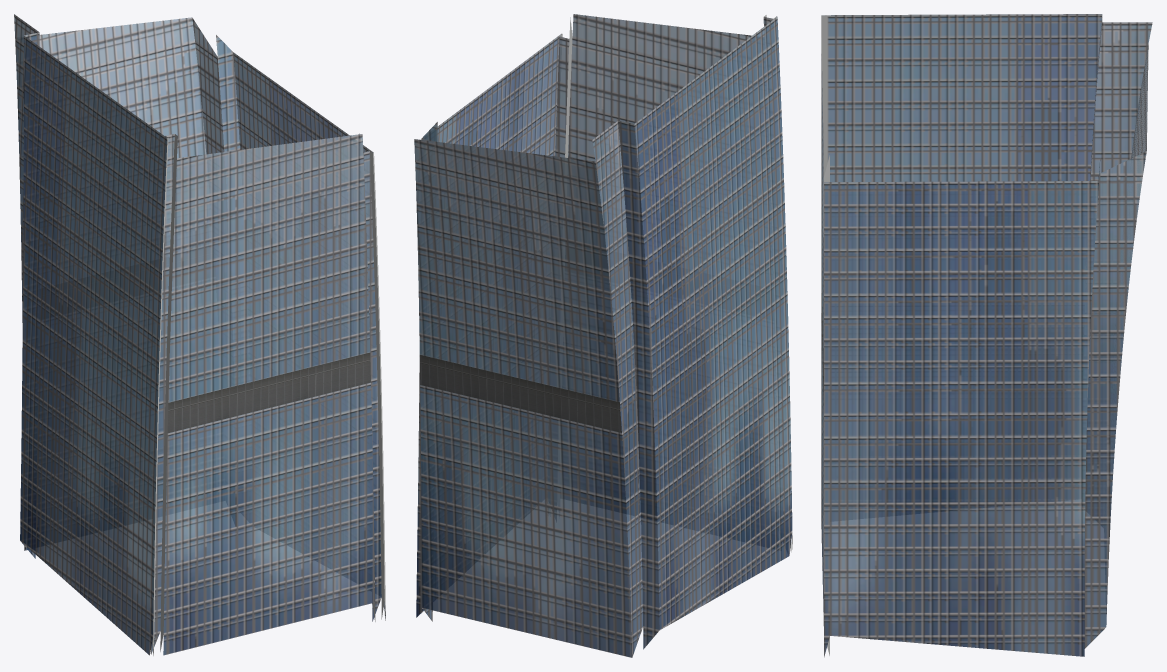
3 renders of one model, left to right at view 1: azimuth 30°, elevation 25°; view 2: azimuth 150°, elevation 25°; view 3: azimuth 270°, elevation 25°, orthographic. The views are drawn at different scales.
Visible parts, largest first — view 1: ke06a001; view 2: ke06a001; view 3: ke06a001.
Boxes of the visible parts, bbox=[...] form: ke06a001: bbox=[14, 14, 385, 655]; ke06a001: bbox=[414, 14, 792, 657]; ke06a001: bbox=[821, 14, 1152, 657].
Size of the model in its own units: 44.85 by 97.64 by 54.68.
Materials: 4 (4 with a texture image).
